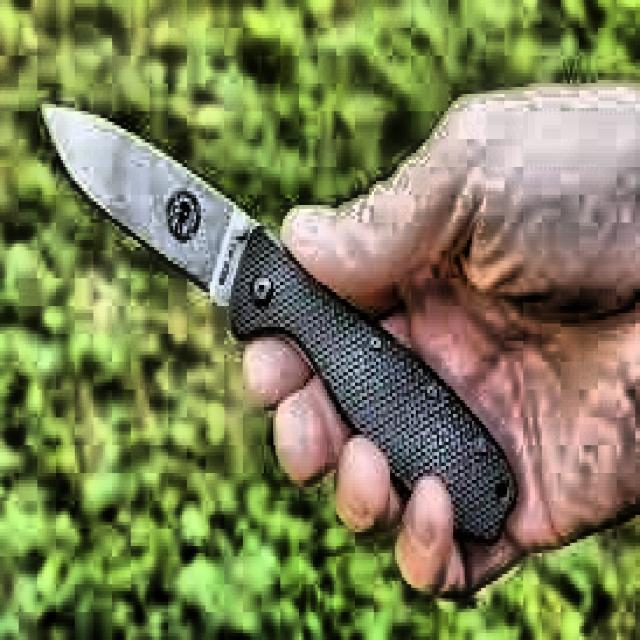knife: (43, 108, 520, 546)
